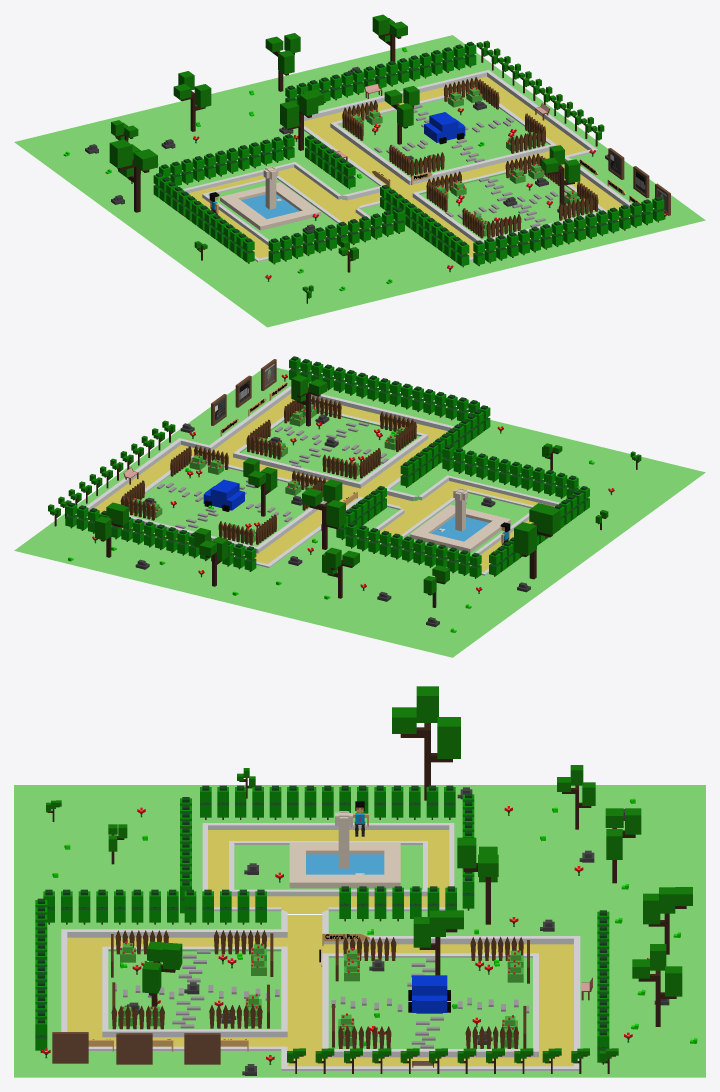
Rendered from beforeexport.glb.
3 views of the same model, one above another, from view 1: azimuth 30°, elevation 25°; view 2: azimuth 150°, elevation 25°; view 3: azimuth 270°, elevation 25° (orthographic). The views are drawn at different scales.
Parts seen in each view (by area): view 1: Ground, Tree.007, Proj2, Proj3; view 2: Ground, Tree.007, Proj2, Proj1, Proj3; view 3: Ground, Tree.007, Proj3, Proj1, Proj2.
Part boxes in pixels (box(x1,y1,x2,y2)): Ground: box(14, 35, 705, 327); Tree.007: box(63, 14, 667, 303); Proj2: box(607, 166, 649, 197); Proj3: box(579, 148, 624, 179); Ground: box(14, 368, 705, 657); Tree.007: box(48, 356, 641, 632); Proj2: box(235, 375, 266, 416); Proj1: box(261, 359, 287, 400); Proj3: box(211, 394, 238, 436); Ground: box(14, 785, 705, 1077); Tree.007: box(35, 686, 697, 1075); Proj3: box(184, 1033, 248, 1064); Proj1: box(52, 1032, 113, 1063); Proj2: box(116, 1033, 173, 1064).
Bounding box in the file's own units: 290 × 52.2 × 288.
40 materials, 3 textured.
